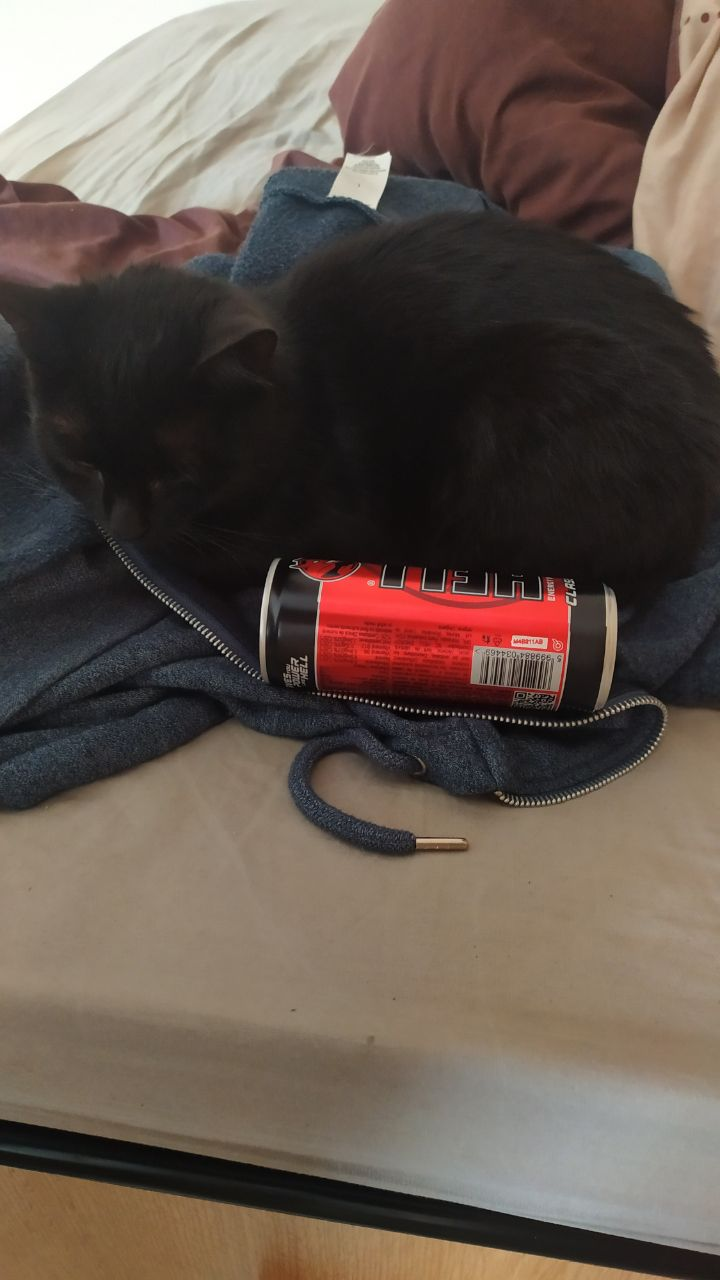Can: (251, 556, 621, 720)
